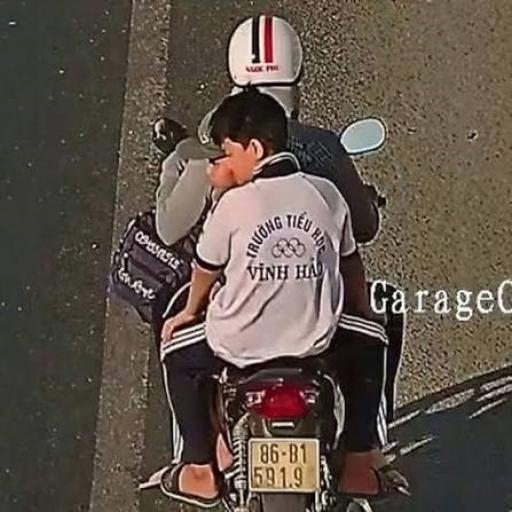helmet: (226, 12, 306, 114)
